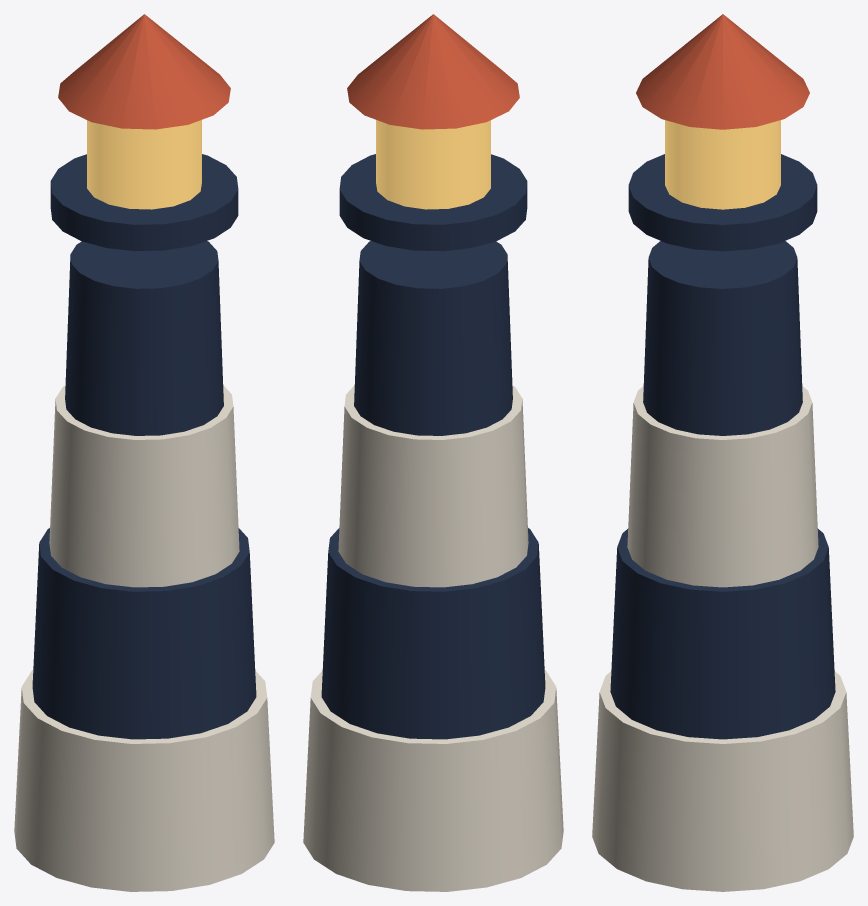
File: lamp-lighthouse.glb
The picture shows the model from 3 angles, left to right: view 1: azimuth 30°, elevation 25°; view 2: azimuth 150°, elevation 25°; view 3: azimuth 270°, elevation 25°; orthographic projection.
Parts seen in each view (by area): view 1: lamp-lighthouse_m_26344f (×2), lamp-lighthouse_m_efe7d8, lamp-lighthouse_m_c4573a, lamp-lighthouse_glow_ffd27a; view 2: lamp-lighthouse_m_26344f (×2), lamp-lighthouse_m_efe7d8, lamp-lighthouse_m_c4573a, lamp-lighthouse_glow_ffd27a; view 3: lamp-lighthouse_m_26344f (×2), lamp-lighthouse_m_efe7d8, lamp-lighthouse_m_c4573a, lamp-lighthouse_glow_ffd27a.
Part boxes in pixels (left/top/right/bottom): lamp-lighthouse_m_26344f (×2): left=32, top=154, right=256, bottom=739; lamp-lighthouse_m_efe7d8: left=14, top=385, right=274, bottom=891; lamp-lighthouse_m_c4573a: left=58, top=14, right=230, bottom=129; lamp-lighthouse_glow_ffd27a: left=87, top=120, right=201, bottom=209; lamp-lighthouse_m_26344f (×2): left=321, top=154, right=545, bottom=739; lamp-lighthouse_m_efe7d8: left=303, top=385, right=563, bottom=891; lamp-lighthouse_m_c4573a: left=347, top=14, right=519, bottom=129; lamp-lighthouse_glow_ffd27a: left=376, top=120, right=490, bottom=209; lamp-lighthouse_m_26344f (×2): left=610, top=154, right=835, bottom=739; lamp-lighthouse_m_efe7d8: left=592, top=386, right=853, bottom=891; lamp-lighthouse_m_c4573a: left=636, top=14, right=809, bottom=129; lamp-lighthouse_glow_ffd27a: left=665, top=120, right=780, bottom=209.
Bounding box in the file's own units: 0.3604 × 1.25 × 0.3604.
